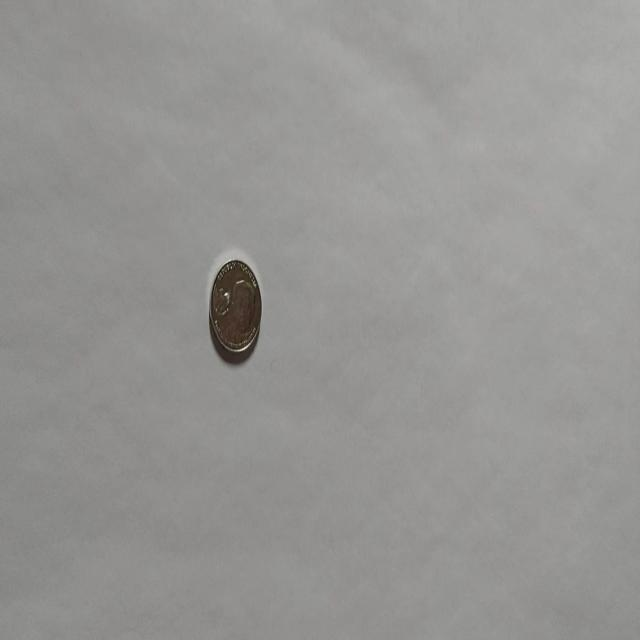seratus rupiah: (208, 256, 262, 356)
